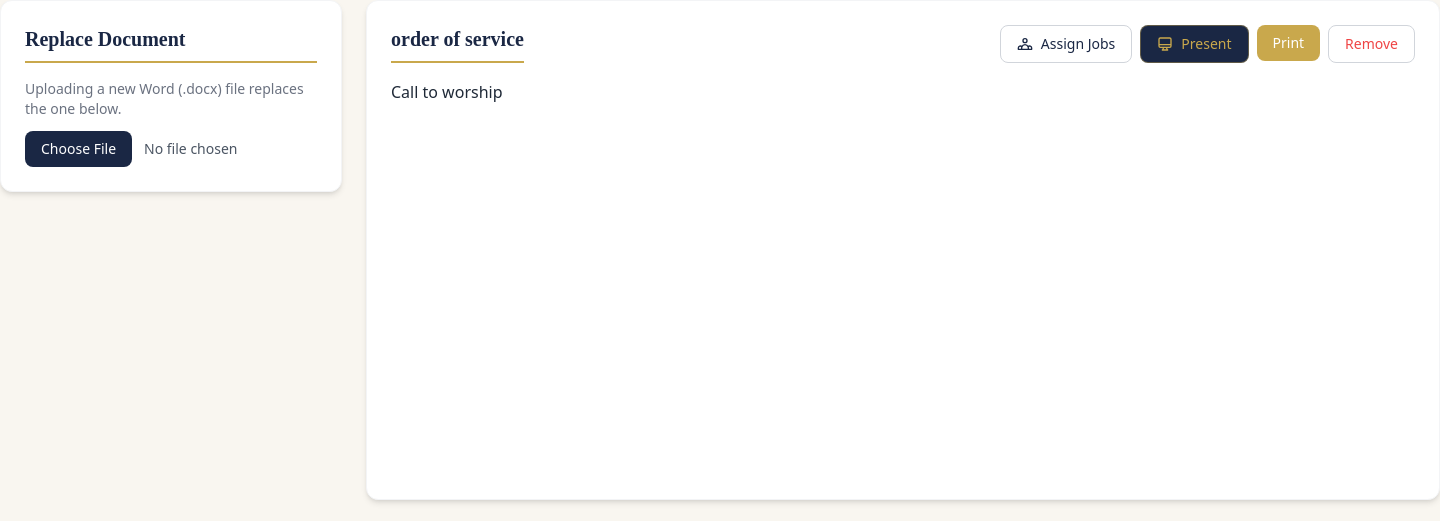
OrderOfService — removing it › removing the document clears the viewer for everyone
Expected: the text "Call to worship" is shown, [391,81,502,103]
Click the button "Remove".
click(1372, 44)  # box [1328,25,1415,63]
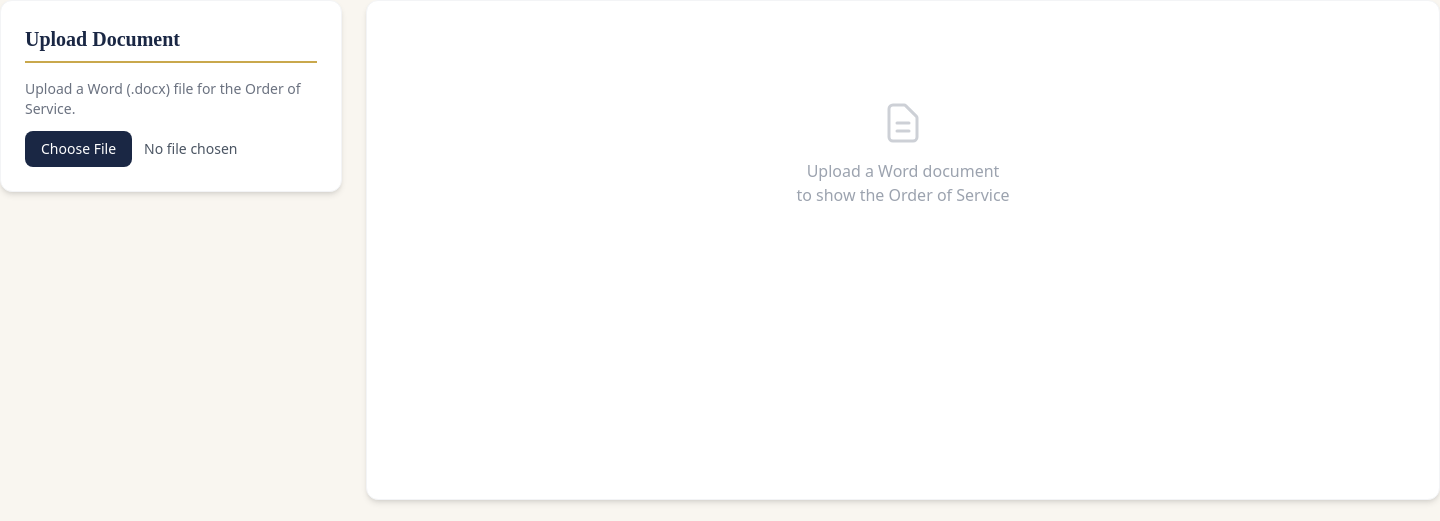
Expected: the text "Upload a Word document" is shown, [807,160,999,182]
